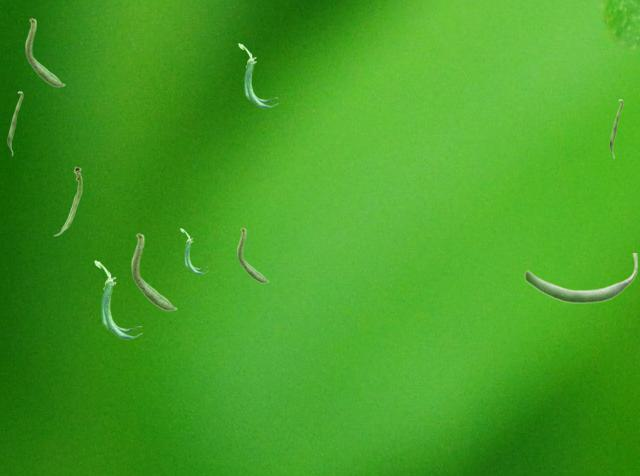french_bean: (524, 253, 637, 303), (94, 260, 141, 338), (131, 232, 176, 310), (25, 17, 64, 86), (238, 43, 277, 107), (53, 166, 81, 235), (237, 227, 268, 282), (180, 228, 207, 273), (7, 91, 22, 155), (609, 99, 622, 158)
